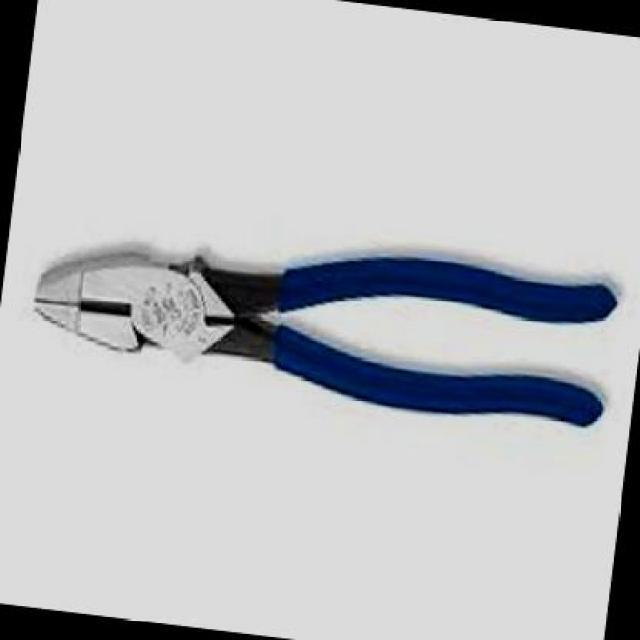pliers: (11, 172, 638, 448)
